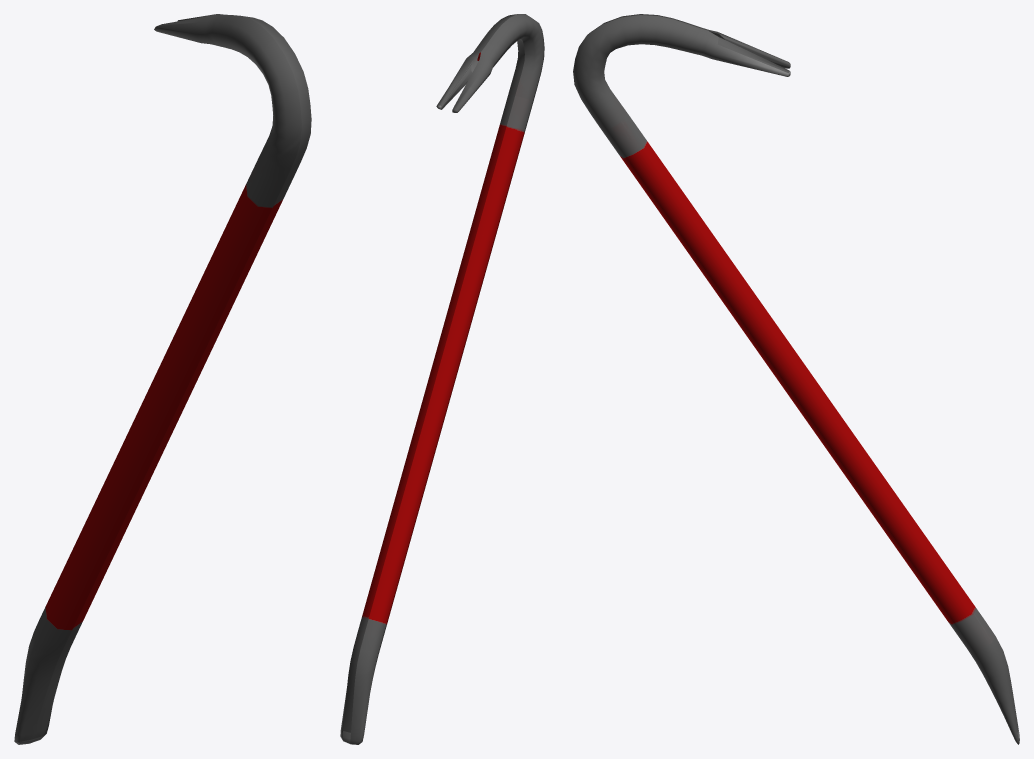
File: Palanca.fbx
The picture shows the model from 3 angles, left to right: view 1: azimuth 30°, elevation 25°; view 2: azimuth 150°, elevation 25°; view 3: azimuth 270°, elevation 25°; orthographic projection. The views are drawn at different scales.
Visible parts, largest first — view 1: Plane; view 2: Plane; view 3: Plane.
Part boxes in pixels (box(x1,y1,x2,y2)): Plane: box(14, 14, 311, 744); Plane: box(340, 14, 544, 744); Plane: box(573, 14, 1019, 744).
Size of the model in its own units: 20.52 by 430 by 239.
1 material, 1 textured.
